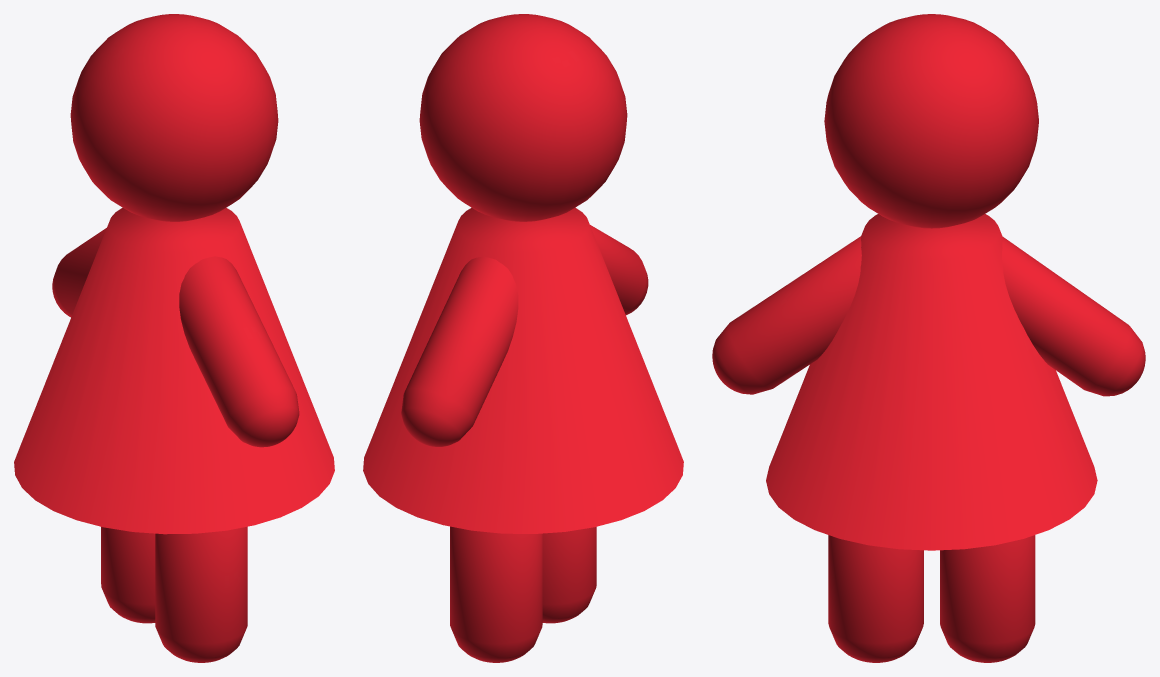
Rendered from 1_goal.gltf.
3 renders of one model, left to right at view 1: azimuth 30°, elevation 25°; view 2: azimuth 150°, elevation 25°; view 3: azimuth 270°, elevation 25°, orthographic. The views are drawn at different scales.
Visible parts, largest first — view 1: gonna, testa, bracciodx, gambadx, gambasx, bracciosx; view 2: gonna, testa, bracciosx, gambasx, gambadx, bracciodx; view 3: gonna, testa, bracciodx, bracciosx, gambasx, gambadx.
Boxes of the visible parts, <box> form: gonna: <box>14,207,334,534</box>; testa: <box>70,14,278,221</box>; bracciodx: <box>179,256,299,447</box>; gambadx: <box>155,526,247,662</box>; gambasx: <box>101,527,155,623</box>; bracciosx: <box>52,228,106,317</box>; gonna: <box>363,207,683,533</box>; testa: <box>419,14,627,221</box>; bracciosx: <box>401,256,518,446</box>; gambasx: <box>450,526,542,662</box>; gambadx: <box>542,527,596,623</box>; bracciodx: <box>590,225,648,315</box>; gonna: <box>766,214,1097,550</box>; testa: <box>824,14,1038,228</box>; bracciodx: <box>712,236,861,394</box>; bracciosx: <box>1002,236,1145,396</box>; gambasx: <box>940,535,1035,662</box>; gambadx: <box>828,535,923,662</box>.
Bounding box in the file's own units: 2.41 × 5.08 × 3.15.
1 material, 1 textured.
